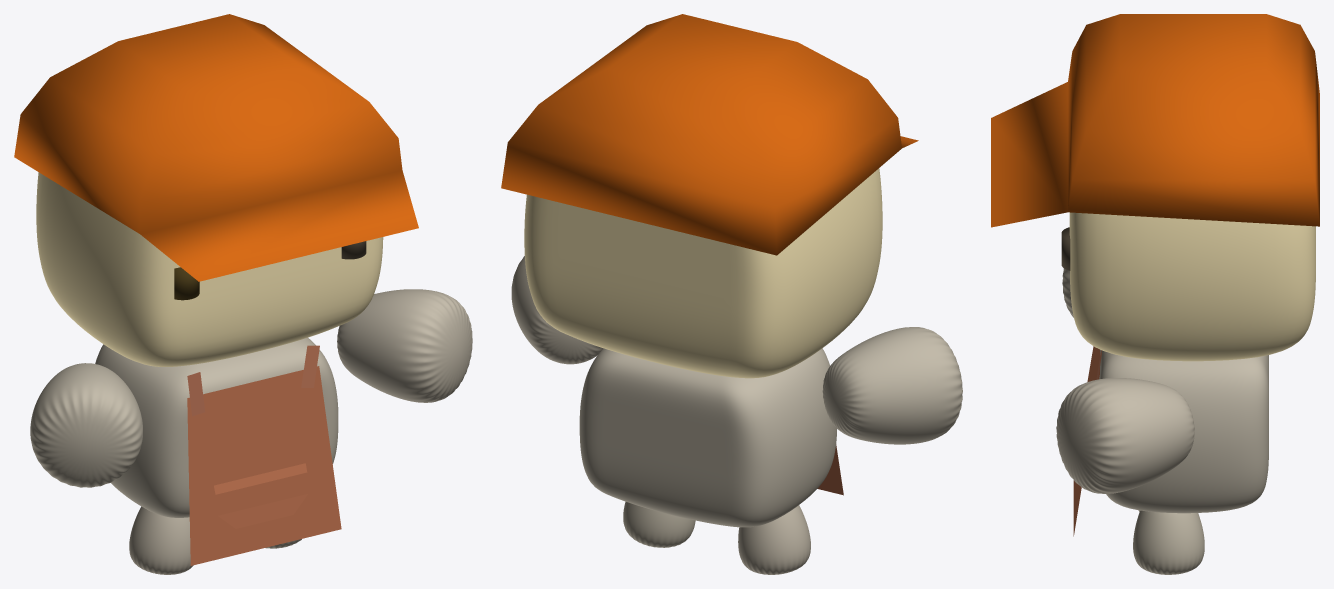
The model's file is 아르바이트.fbx.
3 views of the same model, side by side, from view 1: azimuth 30°, elevation 25°; view 2: azimuth 150°, elevation 25°; view 3: azimuth 270°, elevation 25° (orthographic). The views are drawn at different scales.
Parts seen in each view (by area): view 1: 모자, 머리, 앞치마, 몸, 오른팔, 왼팔, 왼발, 왼눈; view 2: 모자, 머리, 몸, 왼팔, 왼발, 오른팔, 오른발; view 3: 모자, 머리, 몸, 오른팔, 오른발, 앞치마.
Boxes of the visible parts, x1,y1,x2,y2 form: 모자: (14,14,418,281); 머리: (36,172,383,366); 앞치마: (187,345,341,565); 몸: (95,337,338,517); 오른팔: (337,289,472,402); 왼팔: (30,363,142,487); 왼발: (129,506,193,574); 왼눈: (174,267,199,300); 모자: (501,14,918,255); 머리: (524,168,882,378); 몸: (579,348,836,527); 왼팔: (822,327,962,444); 왼발: (738,505,810,574); 오른팔: (511,256,602,364); 오른발: (623,501,695,547); 모자: (991,14,1319,227); 머리: (1069,212,1315,361); 몸: (1099,349,1268,513); 오른팔: (1056,378,1194,493); 오른발: (1133,510,1204,574); 앞치마: (1073,346,1101,536).
Bounding box in the file's own units: 572 × 625 × 370.
